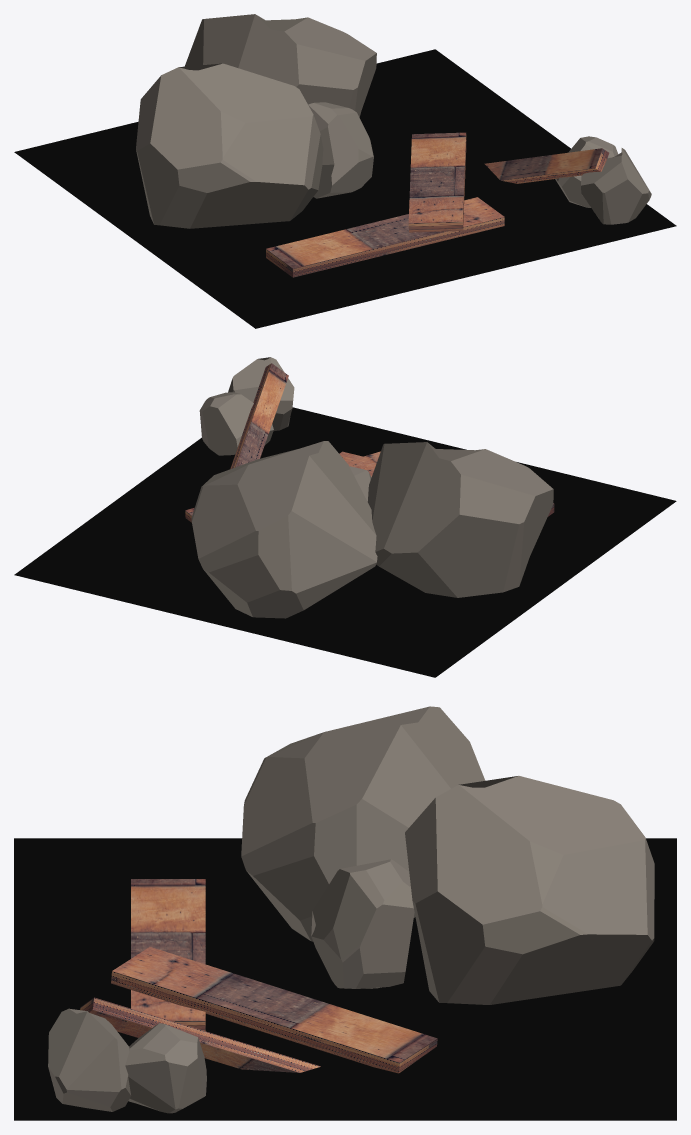
The model's file is ruined_settlement.fbx.
3 views of the same model, one above another, from view 1: azimuth 30°, elevation 25°; view 2: azimuth 150°, elevation 25°; view 3: azimuth 270°, elevation 25° (orthographic). The views are drawn at different scales.
Parts seen in each view (by area): view 1: RuinedHouse; view 2: RuinedHouse; view 3: RuinedHouse.
Part boxes in pixels (x1,y1,x2,y2): RuinedHouse: [14, 14, 676, 328]; RuinedHouse: [14, 357, 676, 677]; RuinedHouse: [14, 706, 676, 1120].
Bounding box in the file's own units: 655 × 244 × 651.
